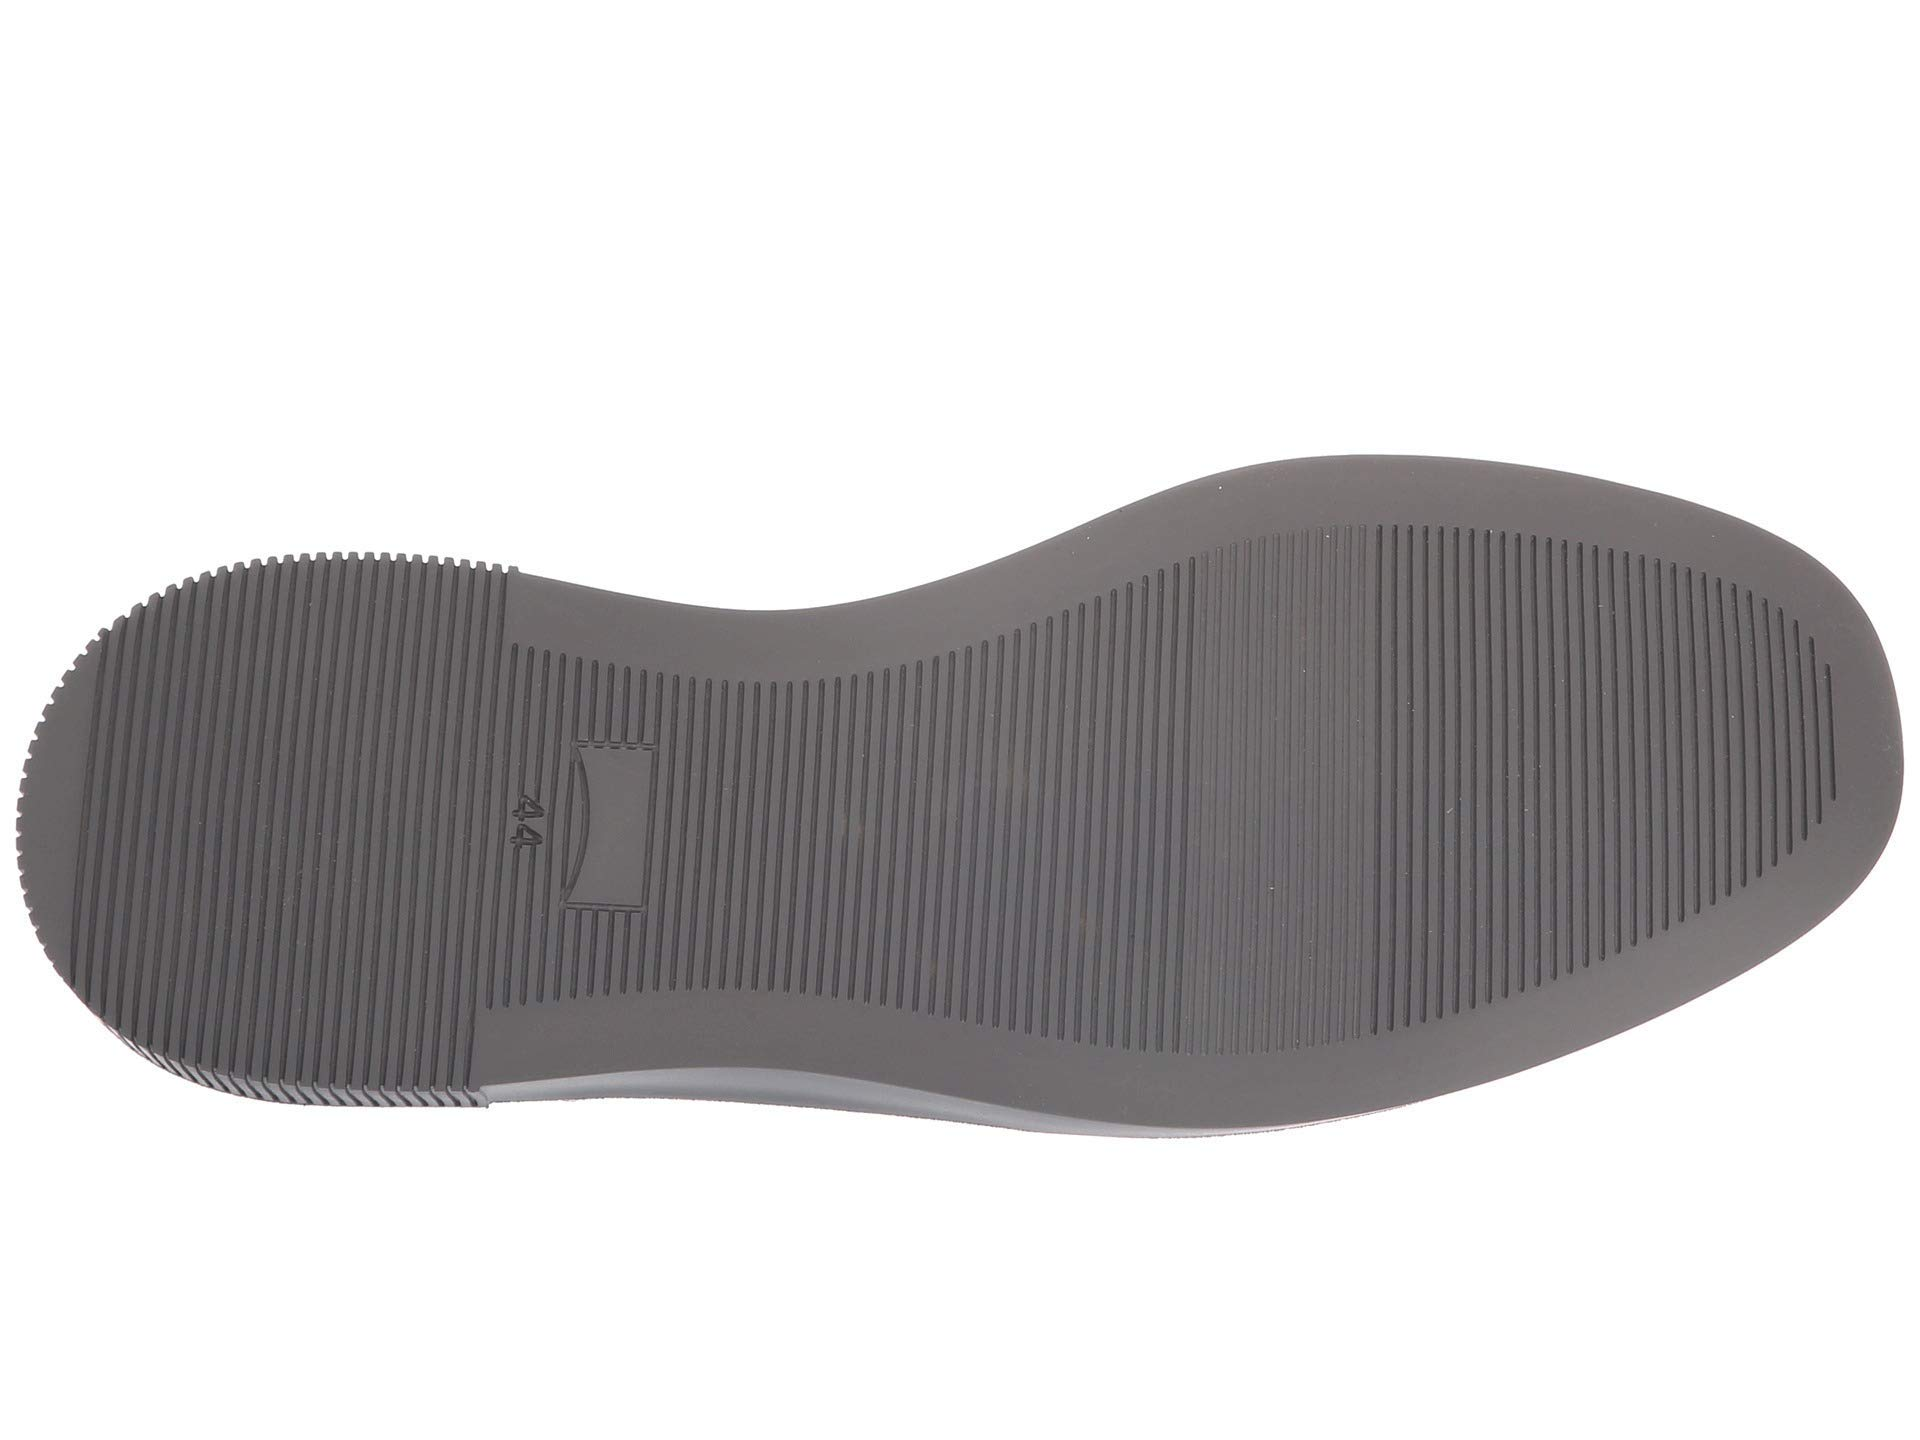line: (1095, 561, 1784, 917), (132, 610, 416, 1029), (493, 768, 552, 871)
quad: (556, 740, 659, 920)
text: (493, 768, 552, 871)
